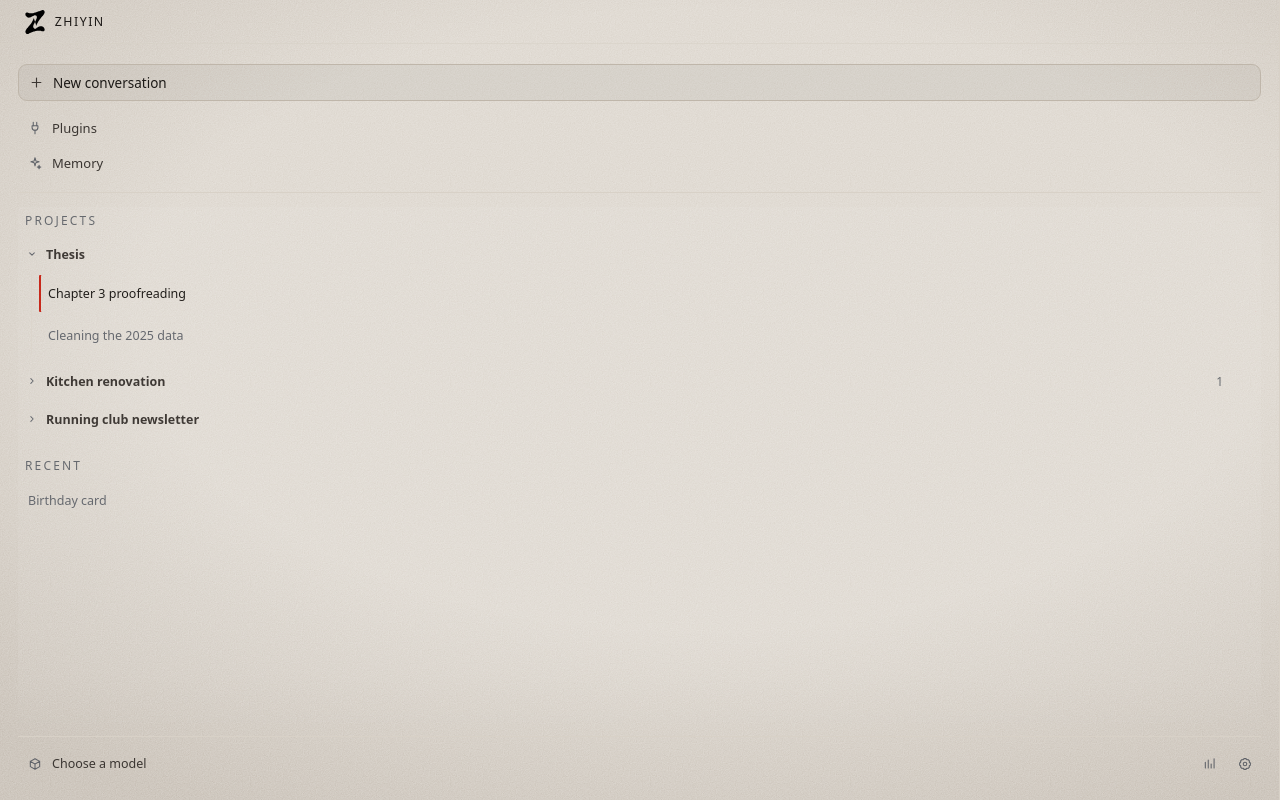
Test: AppSidebar with projects › opens the project holding the current conversation, and opens or closes the others on their row
Expected: the text "Kitchen quotes" is not shown
Click the button "Kitchen renovation 1": (106, 381) [18,363,1261,399]
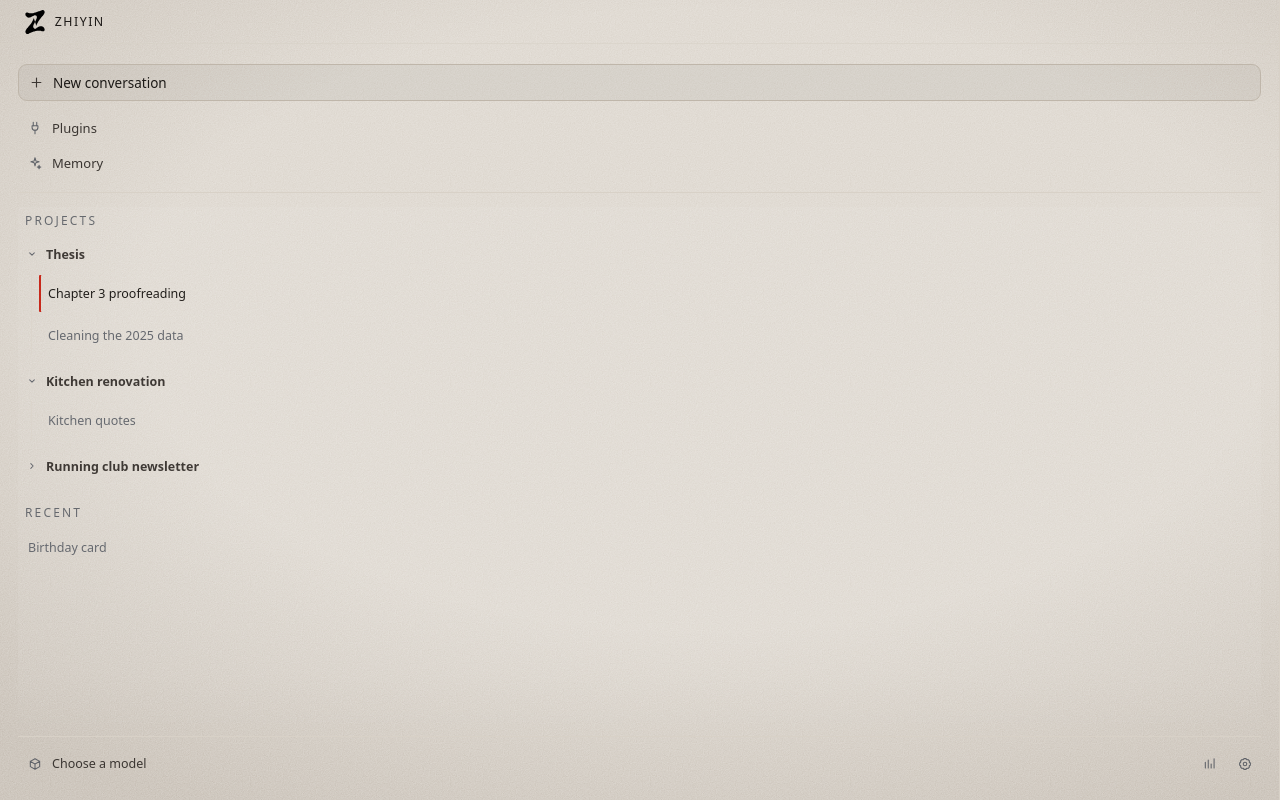
Result: the button "Kitchen renovation" is expanded
Result: the text "Kitchen quotes" is shown at [48,412,136,429]
Click the button "Kitchen renovation": (106, 381) [18,363,1261,399]
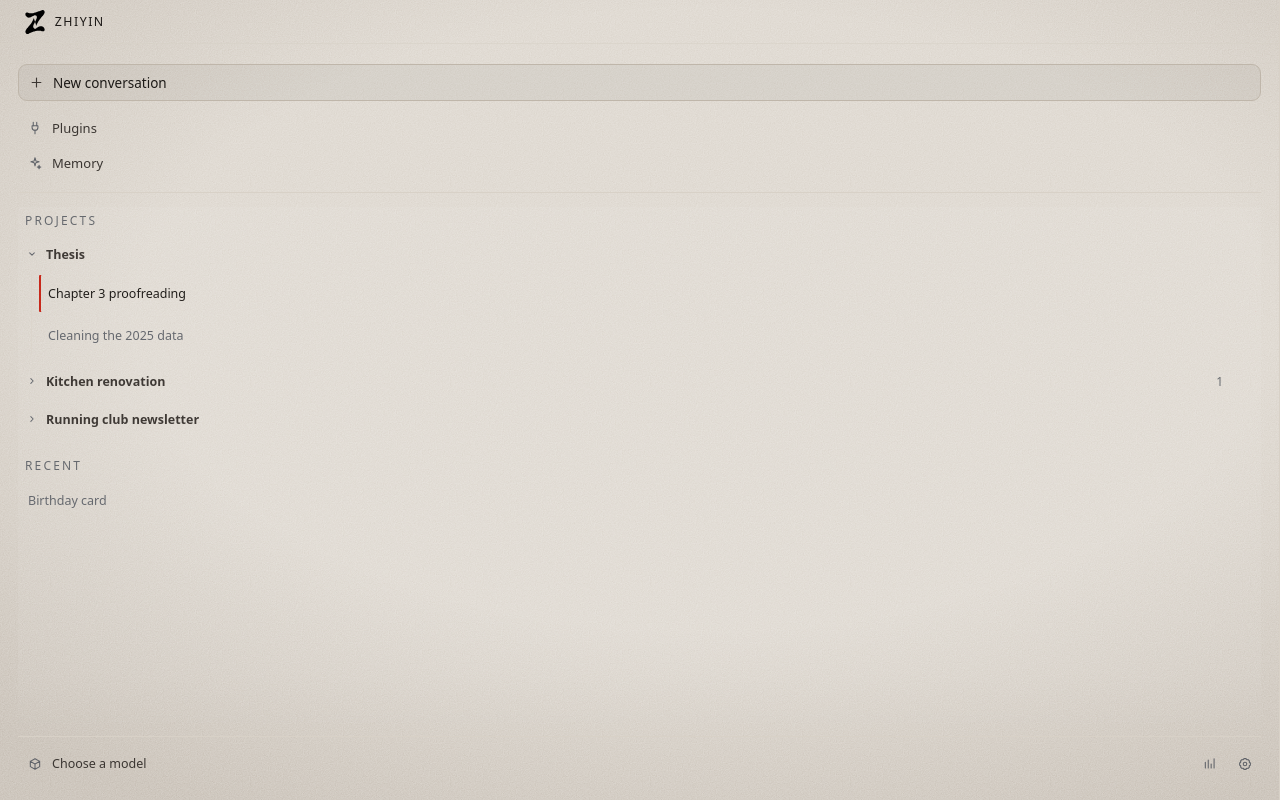
Result: the button "Kitchen quotes" is gone
